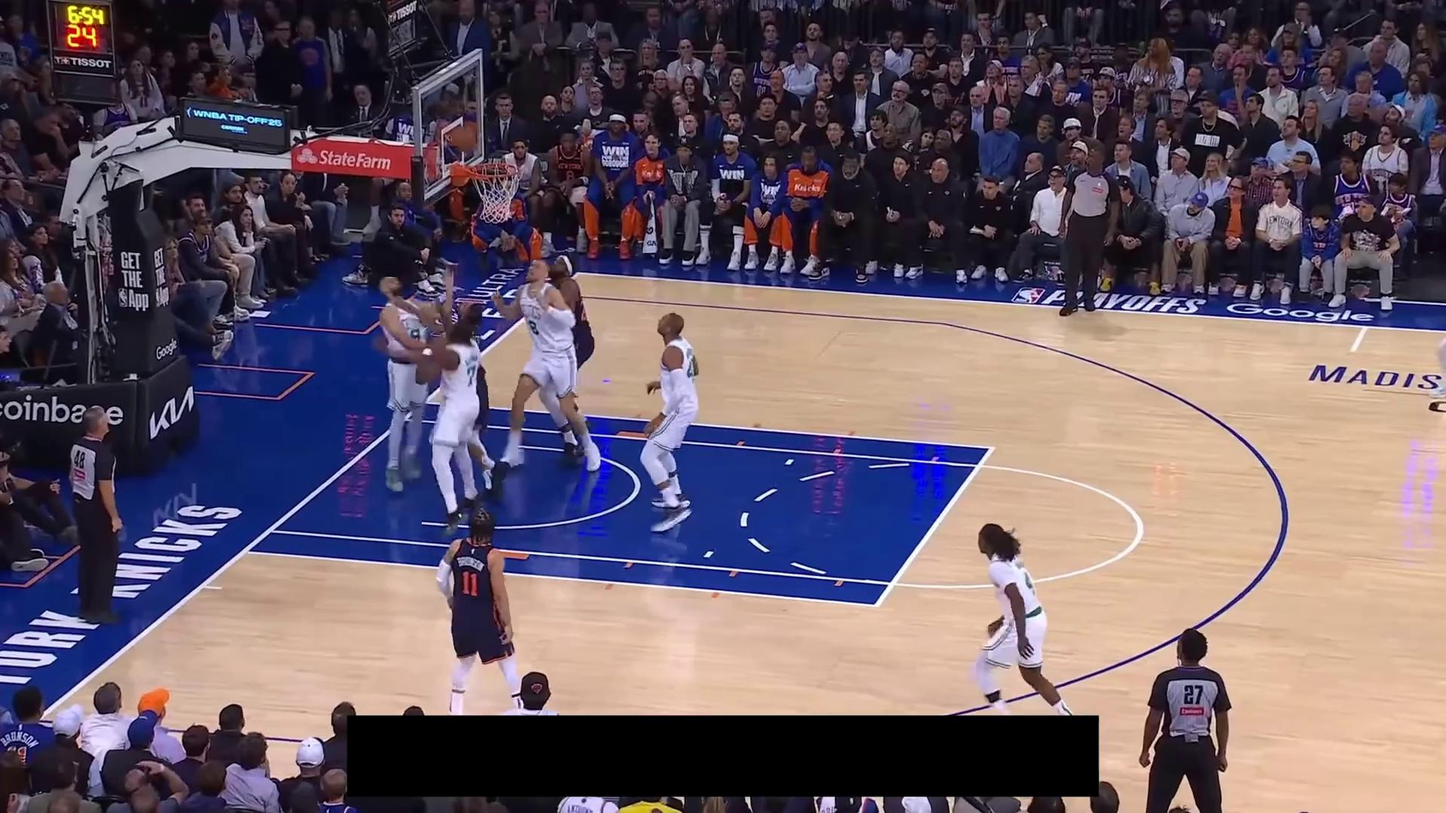ball: (450, 125, 476, 150)
number: (460, 569, 479, 598), (466, 364, 477, 386), (526, 319, 540, 336)
player: (376, 303, 509, 498), (490, 254, 601, 473), (967, 521, 1076, 716), (435, 505, 528, 716), (377, 266, 456, 493), (417, 300, 482, 536), (636, 311, 702, 534), (537, 254, 596, 464), (1428, 244, 1446, 406)
referee: (1139, 627, 1232, 813), (66, 405, 127, 624), (1057, 142, 1121, 317)
rim: (466, 161, 519, 180)
